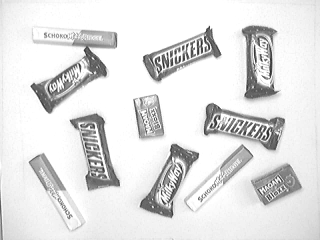Maoam: (250, 161, 304, 208), (132, 93, 167, 141)
Milkyway: (31, 47, 107, 114), (138, 142, 200, 219), (241, 23, 282, 102)
Riegel: (184, 144, 254, 213), (29, 153, 86, 233), (30, 25, 120, 50)
Snickers: (142, 26, 225, 84), (202, 101, 288, 153), (69, 113, 122, 191)
